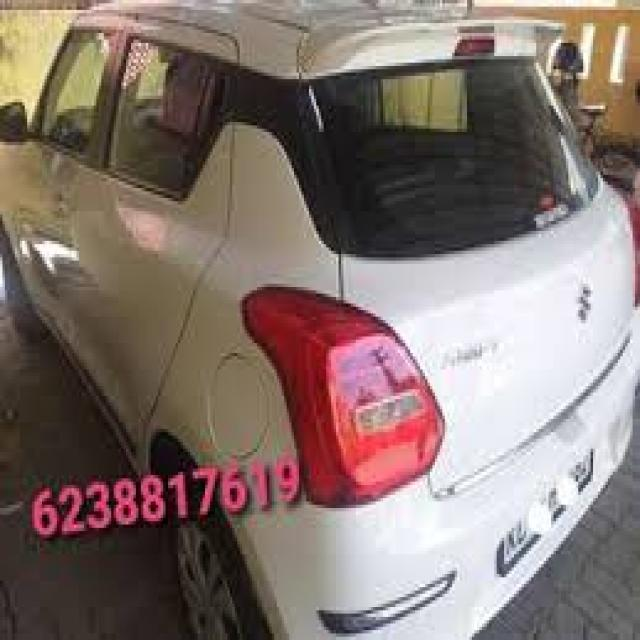Car: (0, 0, 631, 637)
